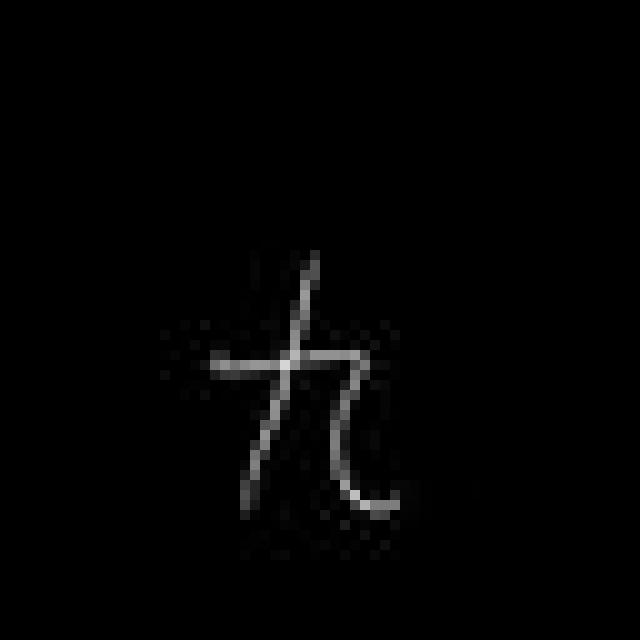9 -nine-: (204, 253, 403, 527)
